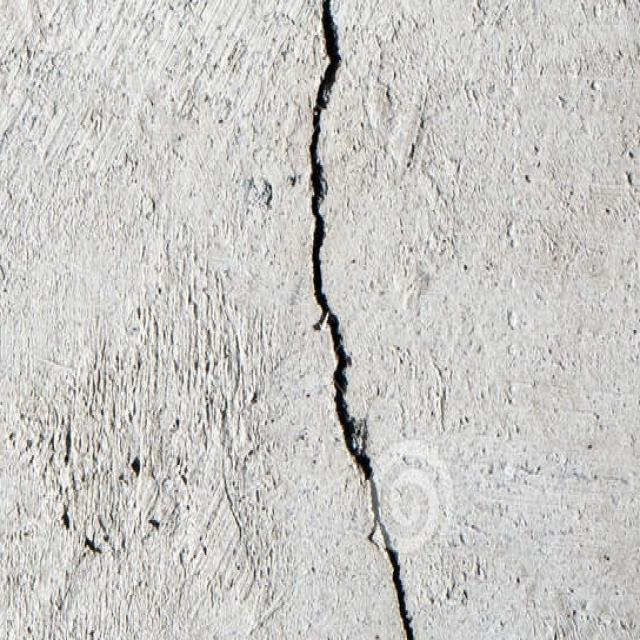Longitudinal: (275, 0, 425, 636)
